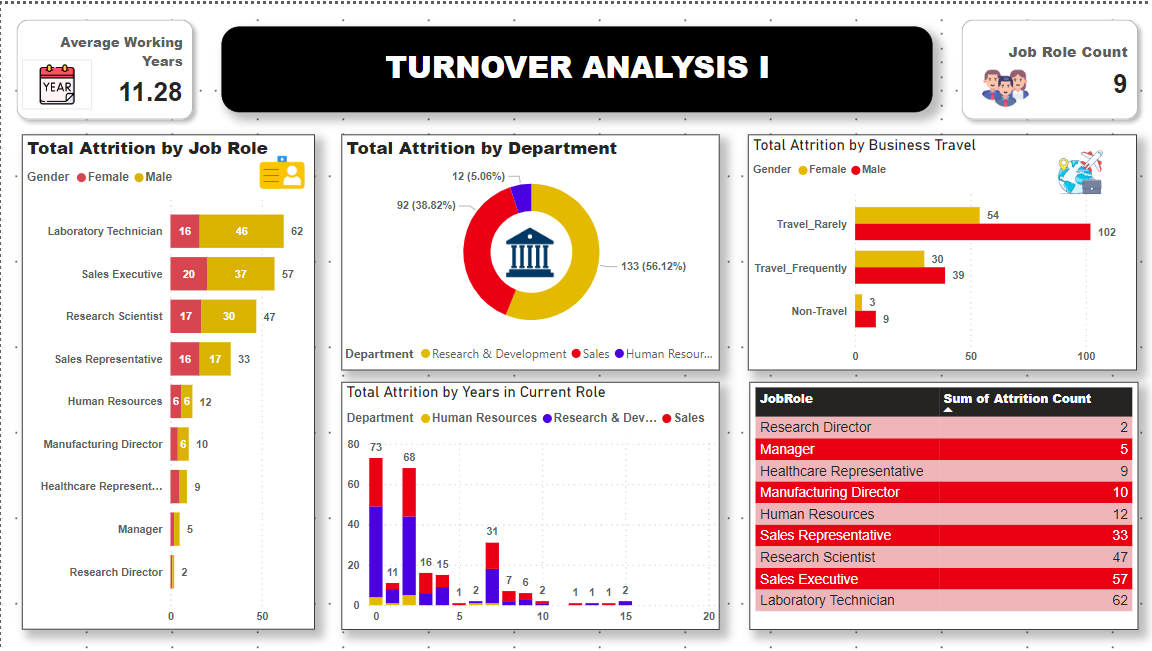

Layout of this report page (visuals, bound fields, positions):
{"tool":"powerbi","page":{"name":"Page 3","canvas":[1280,720],"ordinal":2},"visuals":[{"type":"textbox","title":"TURNOVER ANALYSIS I","box":[245,25,790,95],"z":0},{"type":"cardVisual","fields":{"Data":["Count(HR-Employee-Attrition.JobRole)"]},"box":[1050,0,230,145],"z":1000},{"type":"cardVisual","fields":{"Data":["Avg(HR-Employee-Attrition.TotalWorkingYears)"]},"box":[0,0,230,145],"z":2000},{"type":"image","box":[23.3,61.7,78.3,55],"z":3000},{"type":"image","box":[1066.7,61.7,98.3,63.3],"z":4000},{"type":"barChart","title":"Total Attrition by Job Role","fields":{"Category":["HR-Employee-Attrition.JobRole"],"Series":["HR-Employee-Attrition.Gender"],"Y":["Sum(HR-Employee-Attrition.Attrition Count)"]},"box":[23.3,145,325,550],"z":5000},{"type":"image","box":[258.3,148.3,108.3,76.7],"z":6000},{"type":"donutChart","title":"Total Attrition by Department","fields":{"Category":["HR-Employee-Attrition.Department"],"Y":["Sum(HR-Employee-Attrition.Attrition Count)"]},"box":[378.3,145,420,261.7],"z":7000},{"type":"image","box":[553.3,238.3,68.3,75],"z":8000},{"type":"clusteredBarChart","title":"Total Attrition by Business Travel ","fields":{"Category":["HR-Employee-Attrition.BusinessTravel"],"Series":["HR-Employee-Attrition.Gender"],"Y":["Sum(HR-Employee-Attrition.Attrition Count)"]},"box":[830,145,431.7,261.7],"z":9000},{"type":"columnChart","title":"Total Attrition by Years in Current Role","fields":{"Category":["HR-Employee-Attrition.YearsInCurrentRole"],"Y":["Sum(HR-Employee-Attrition.Attrition Count)"],"Series":["HR-Employee-Attrition.Department"]},"box":[378.3,420,420,275],"z":10000},{"type":"tableEx","fields":{"Values":["HR-Employee-Attrition.JobRole","Sum(HR-Employee-Attrition.Attrition Count)"]},"box":[831.7,420,431.7,275],"z":11000},{"type":"image","box":[1165,156.7,68.3,60],"z":11001}]}

Visuals, with their boxes in screenshot pixels (x1, y1, x2, y2), scaled from the page's 1280x720 canvas onto the 1152x651 screenshot:
"TURNOVER ANALYSIS I" textbox: [left=220, top=23, right=932, bottom=108]
cardVisual - Count(HR-Employee-Attrition.JobRole): [left=945, top=0, right=1151, bottom=131]
cardVisual - Avg(HR-Employee-Attrition.TotalWorkingYears): [left=0, top=0, right=207, bottom=131]
image: [left=21, top=56, right=91, bottom=106]
image: [left=960, top=56, right=1048, bottom=113]
"Total Attrition by Job Role" barChart: [left=21, top=131, right=313, bottom=628]
image: [left=232, top=134, right=330, bottom=203]
"Total Attrition by Department" donutChart: [left=340, top=131, right=718, bottom=368]
image: [left=498, top=215, right=559, bottom=283]
"Total Attrition by Business Travel " clusteredBarChart: [left=747, top=131, right=1136, bottom=368]
"Total Attrition by Years in Current Role" columnChart: [left=340, top=380, right=718, bottom=628]
tableEx - HR-Employee-Attrition.JobRole x Sum(HR-Employee-Attrition.Attrition Count): [left=749, top=380, right=1137, bottom=628]
image: [left=1048, top=142, right=1110, bottom=196]
